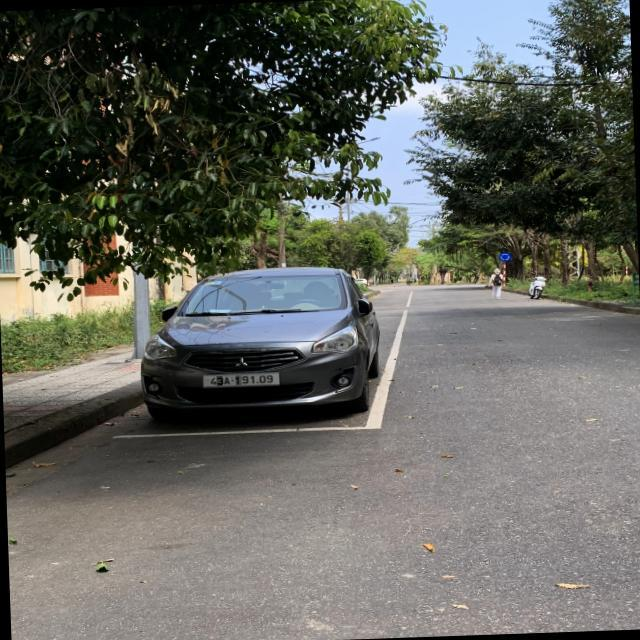car: (143, 266, 384, 430)
plate: (199, 366, 284, 394)
